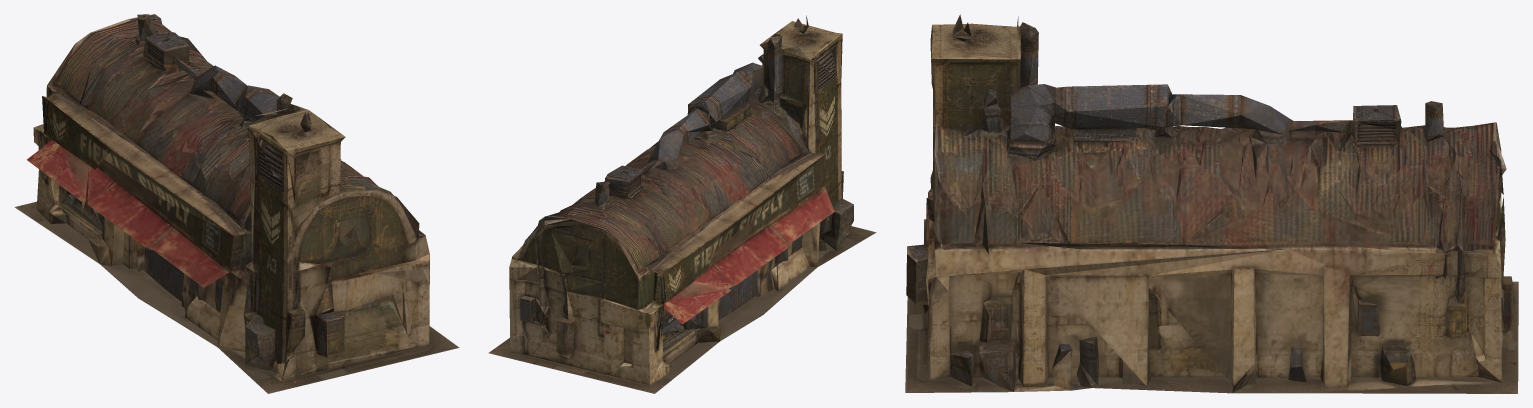
Rendered from field.glb.
The picture shows the model from 3 angles, left to right: view 1: azimuth 30°, elevation 25°; view 2: azimuth 150°, elevation 25°; view 3: azimuth 270°, elevation 25°; orthographic projection. The views are drawn at different scales.
Bounding box in the file's own units: 0.8687 × 1.03 × 1.9.
Materials: 1 (1 with a texture image).
